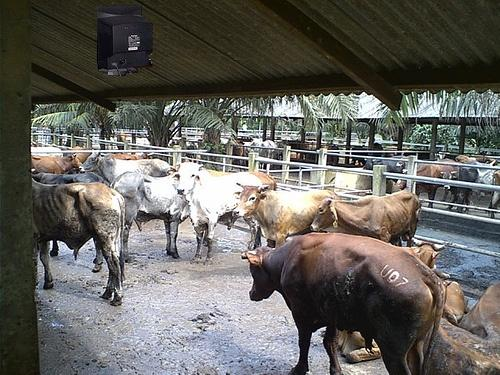tampered: (96, 6, 153, 76)
